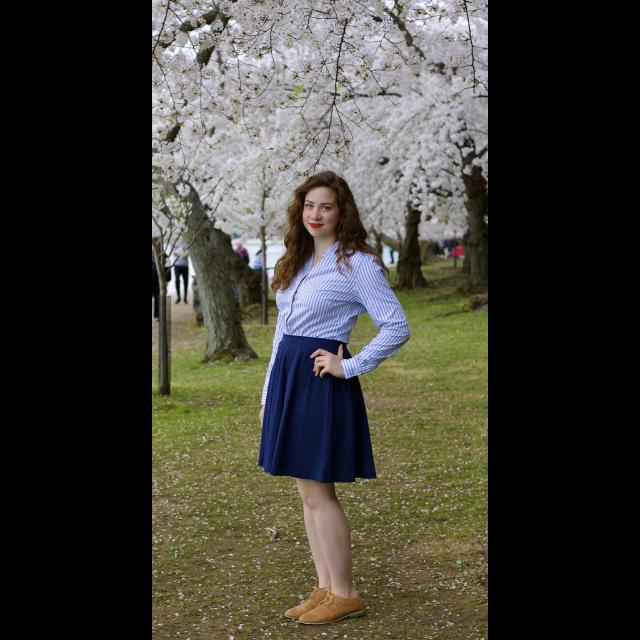Flower: (152, 0, 488, 262), (466, 166, 474, 174)
